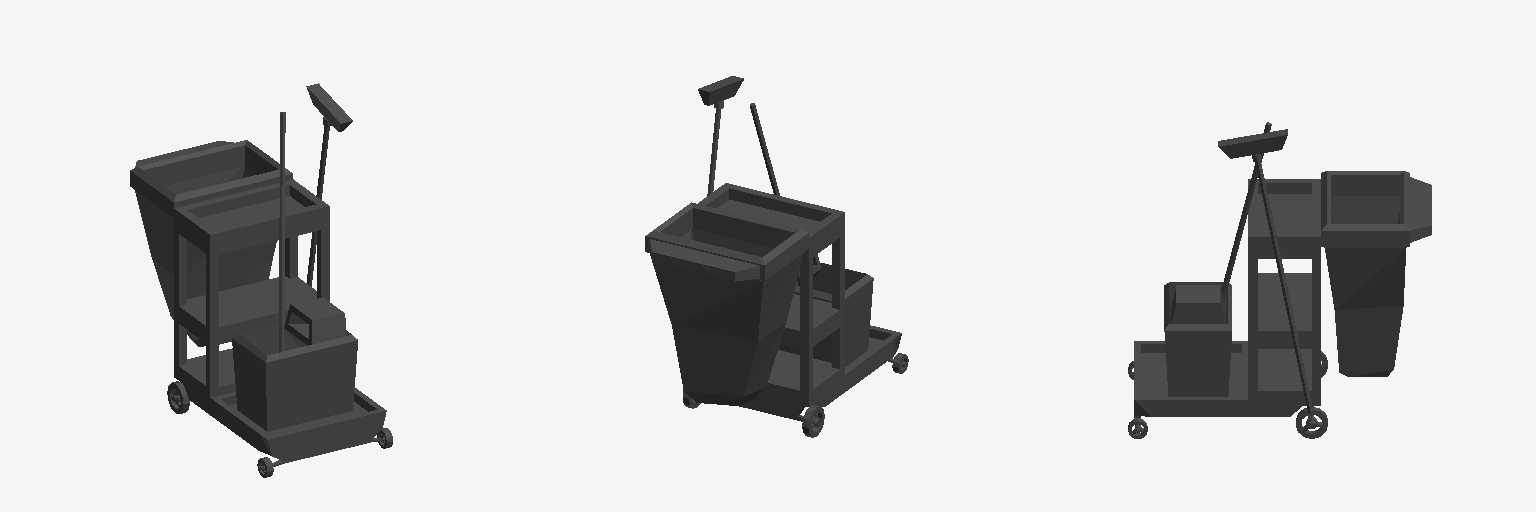
File: cleaning_trolley.obj
3 views of the same model, side by side, from view 1: azimuth 30°, elevation 25°; view 2: azimuth 150°, elevation 25°; view 3: azimuth 270°, elevation 25° (orthographic).
Visible parts, largest first — view 1: Box001; view 2: Box001; view 3: Box001.
Part boxes in pixels (bbox=[...]): Box001: bbox=[130, 83, 392, 477]; Box001: bbox=[645, 76, 908, 437]; Box001: bbox=[1128, 122, 1431, 438].
Bounding box in the file's own units: 44.54 × 98.43 × 88.37.